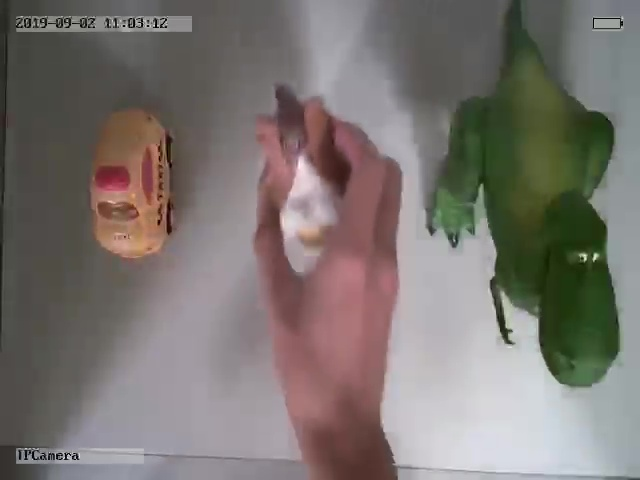car: (91, 109, 177, 260)
rex: (426, 5, 623, 390)
